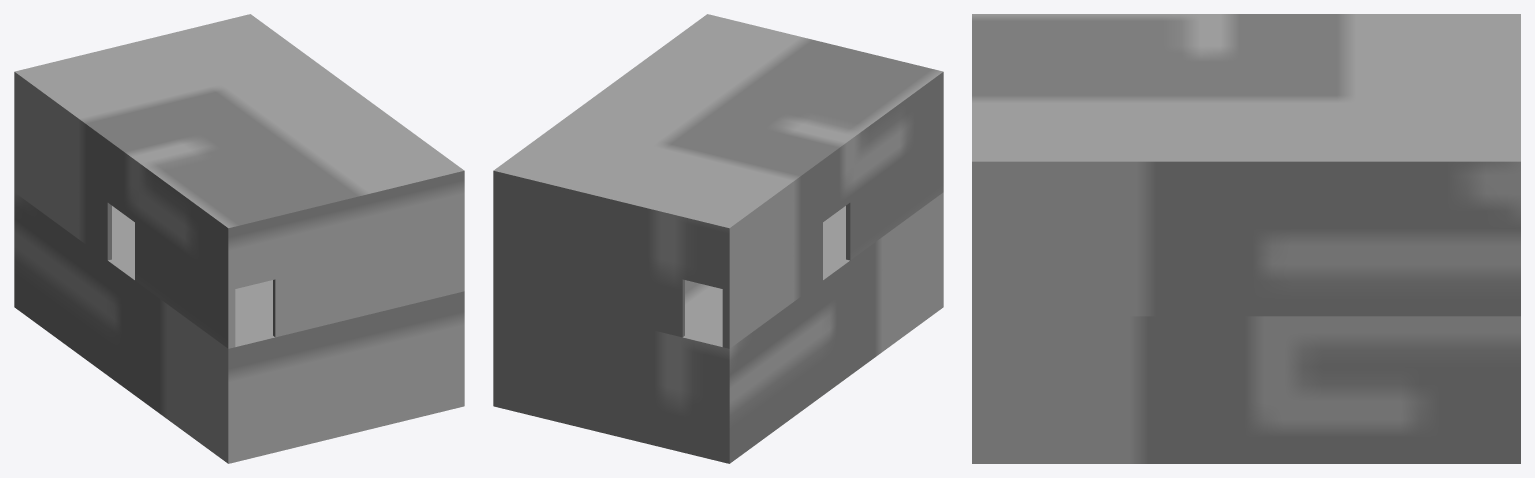
Rendered from prop_SpawnArea.fbx.
3 renders of one model, left to right at view 1: azimuth 30°, elevation 25°; view 2: azimuth 150°, elevation 25°; view 3: azimuth 270°, elevation 25°, orthographic. The views are drawn at different scales.
Visible parts, largest first — view 1: prop_SpawnArea; view 2: prop_SpawnArea; view 3: prop_SpawnArea.
Part boxes in pixels (box(x1,y1,x2,y2)): prop_SpawnArea: box(14, 14, 464, 463); prop_SpawnArea: box(493, 14, 943, 463); prop_SpawnArea: box(972, 14, 1520, 463).
Size of the model in its own units: 1427 by 1360 by 2239.
